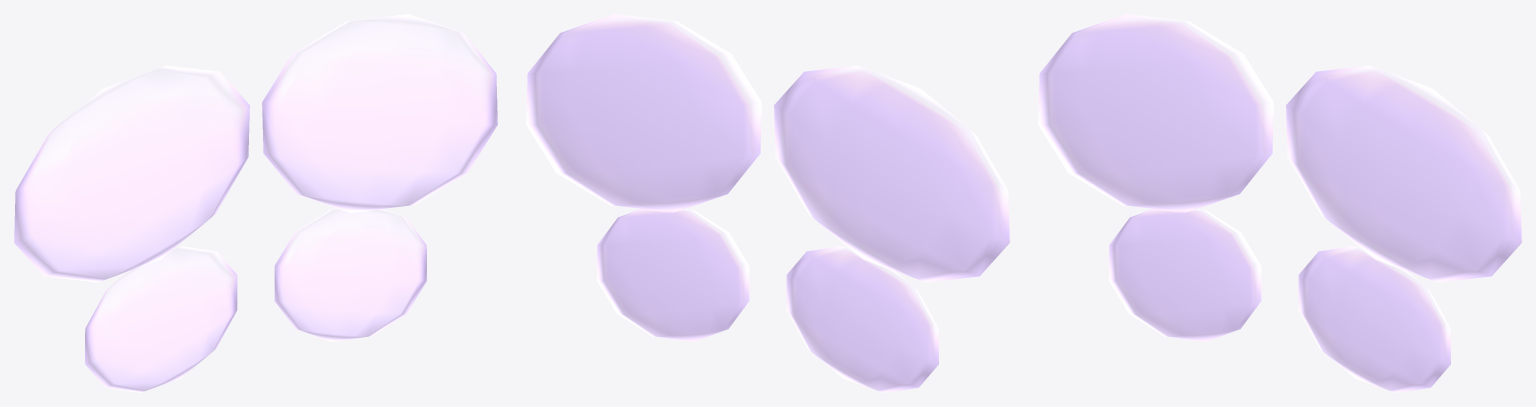
Rendered from wings_butterfly.glb.
The picture shows the model from 3 angles, left to right: view 1: azimuth 30°, elevation 25°; view 2: azimuth 150°, elevation 25°; view 3: azimuth 330°, elevation 25°; orthographic projection.
Parts seen in each view (by area): view 1: wing_r, wing_l; view 2: wing_r, wing_l; view 3: wing_l, wing_r.
Part boxes in pixels (bbox=[...]): wing_r: bbox=[14, 65, 249, 392]; wing_l: bbox=[262, 14, 497, 341]; wing_r: bbox=[774, 65, 1009, 392]; wing_l: bbox=[526, 14, 761, 341]; wing_l: bbox=[1286, 65, 1521, 392]; wing_r: bbox=[1038, 14, 1273, 341].
Bounding box in the file's own units: 0.6634 × 0.4208 × 0.0272.
